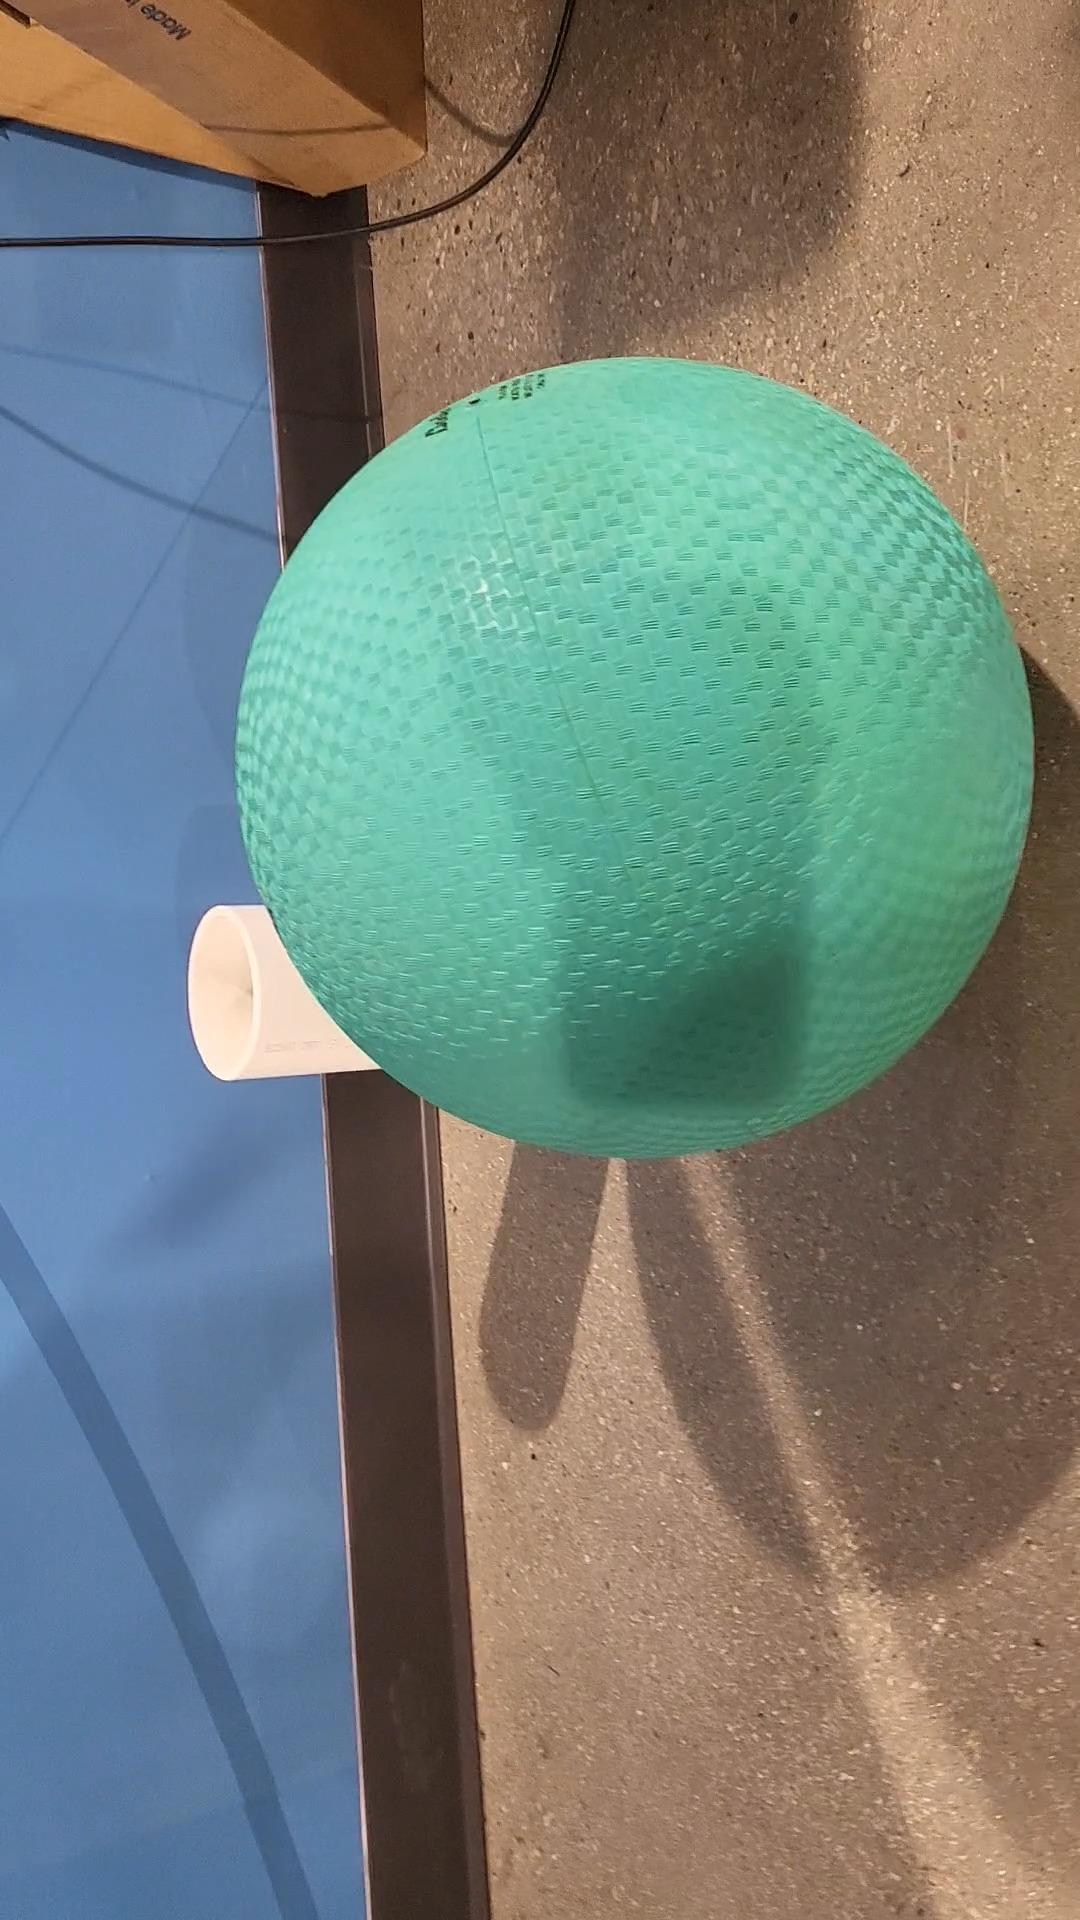algae: (240, 355, 1030, 1160)
coral: (190, 899, 390, 1083)
